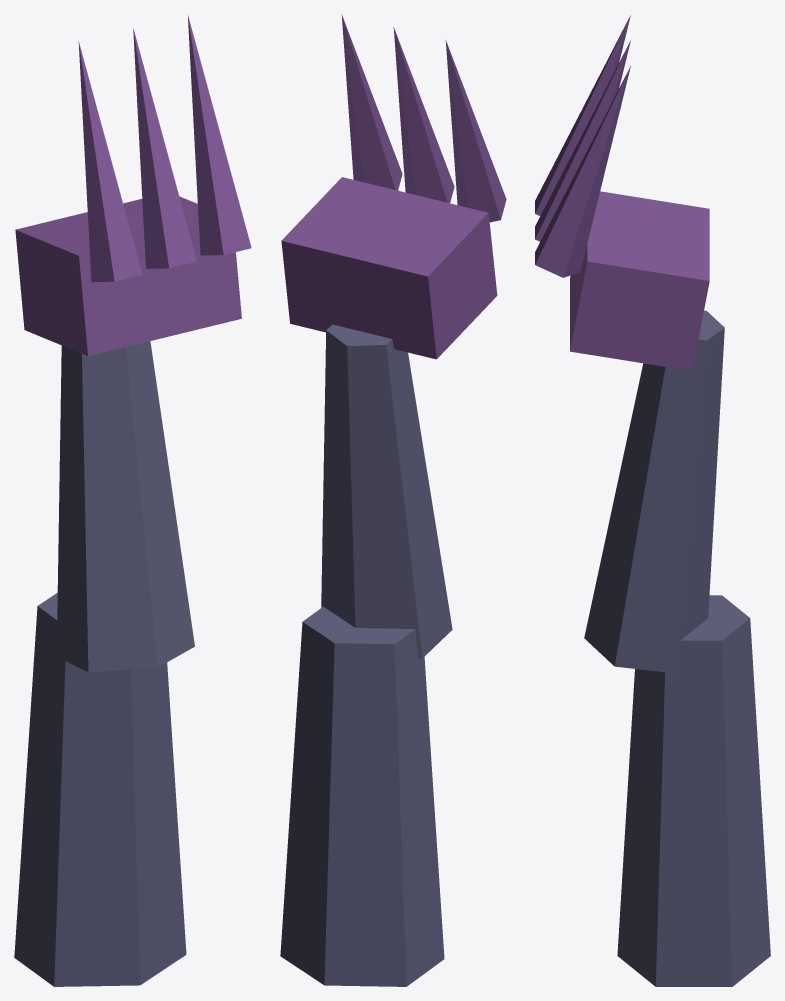
The model's file is shadow_stalker_arm.glb.
3 renders of one model, left to right at view 1: azimuth 30°, elevation 25°; view 2: azimuth 150°, elevation 25°; view 3: azimuth 270°, elevation 25°, orthographic. The views are drawn at different scales.
Visible parts, largest first — view 1: shadow_stalker_arm; view 2: shadow_stalker_arm; view 3: shadow_stalker_arm.
Part boxes in pixels (box(x1,y1,x2,y2)): shadow_stalker_arm: box(14, 14, 251, 986); shadow_stalker_arm: box(280, 14, 506, 986); shadow_stalker_arm: box(535, 15, 770, 986).
Bounding box in the file's own units: 0.2207 × 1.3 × 0.3036.
